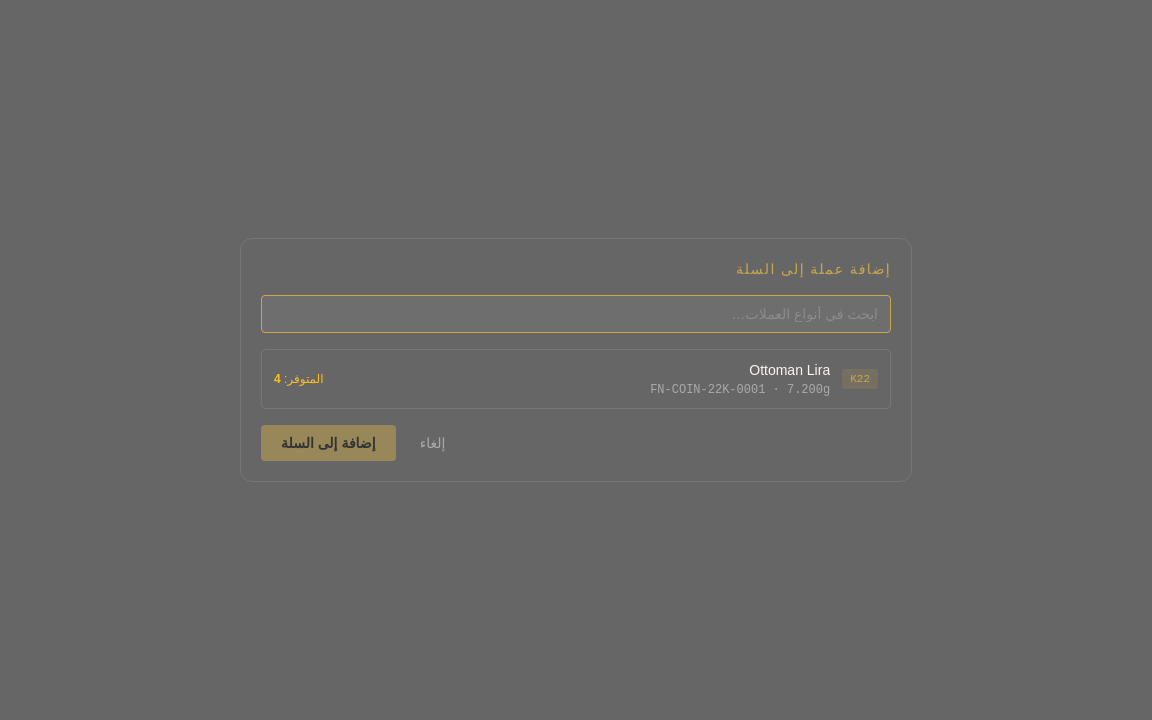
Test case: AddUnitDialog — labels and i18n (NEX-64) › refuses more than is on hand — the button stays disabled
The width and height of the screenshot is (1152, 720).
Click the button "K22 Ottoman Lira FN-COIN-22K-0001 · 7.200g المتوفر: 4".
click(860, 379)  # box [262,350,890,408]
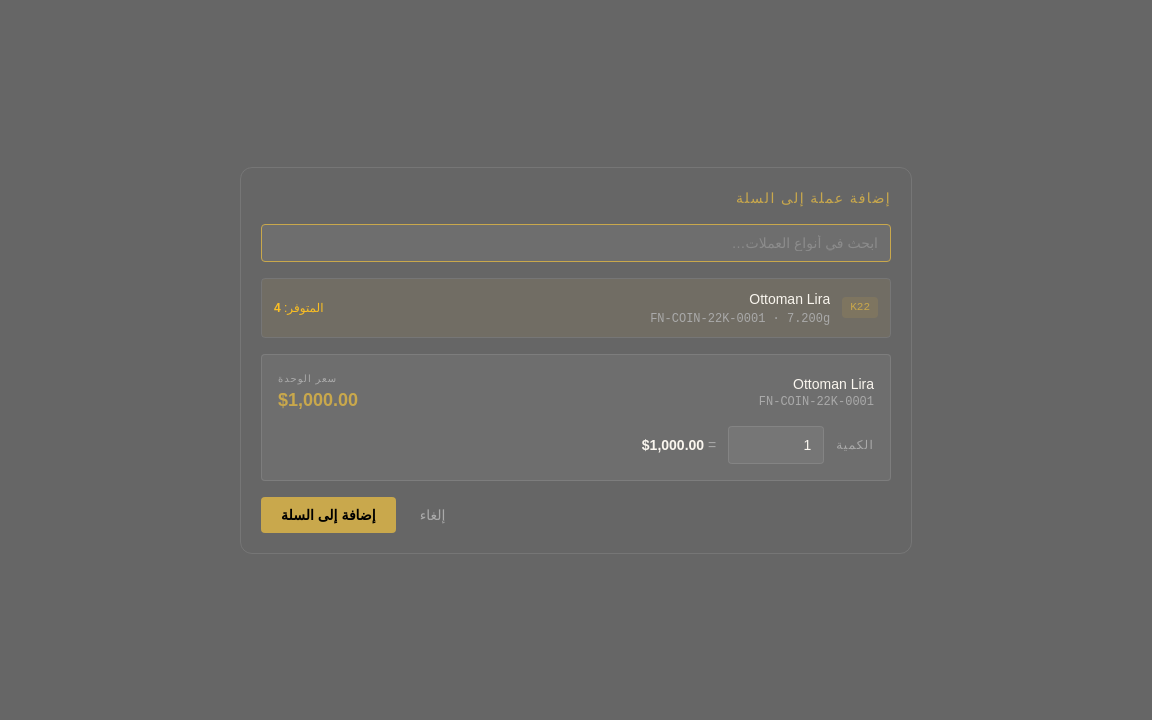
Replace the text in the number field labelled "الكمية" with "9" at (776, 444), box [728,426,824,464]
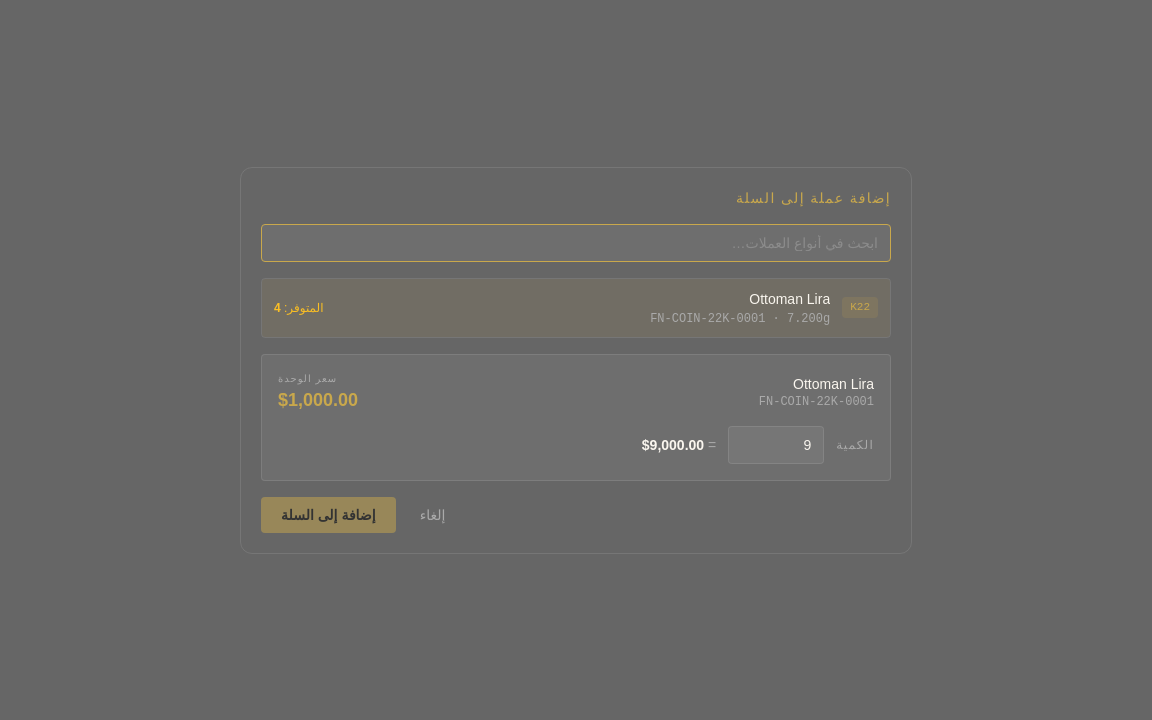
Expected: the button "إضافة إلى السلة" is disabled, [261,496,396,532]
